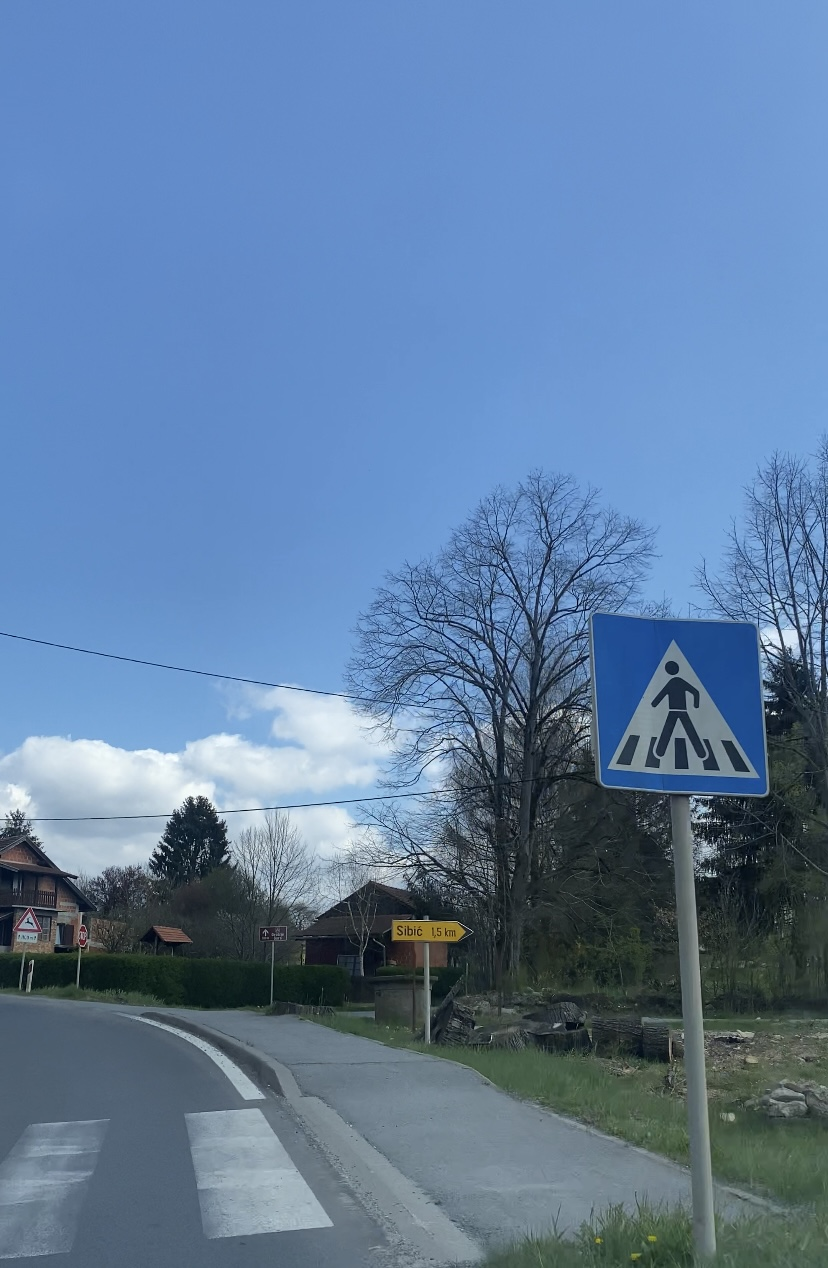Pješački prijelaz: (590, 611, 770, 797)
